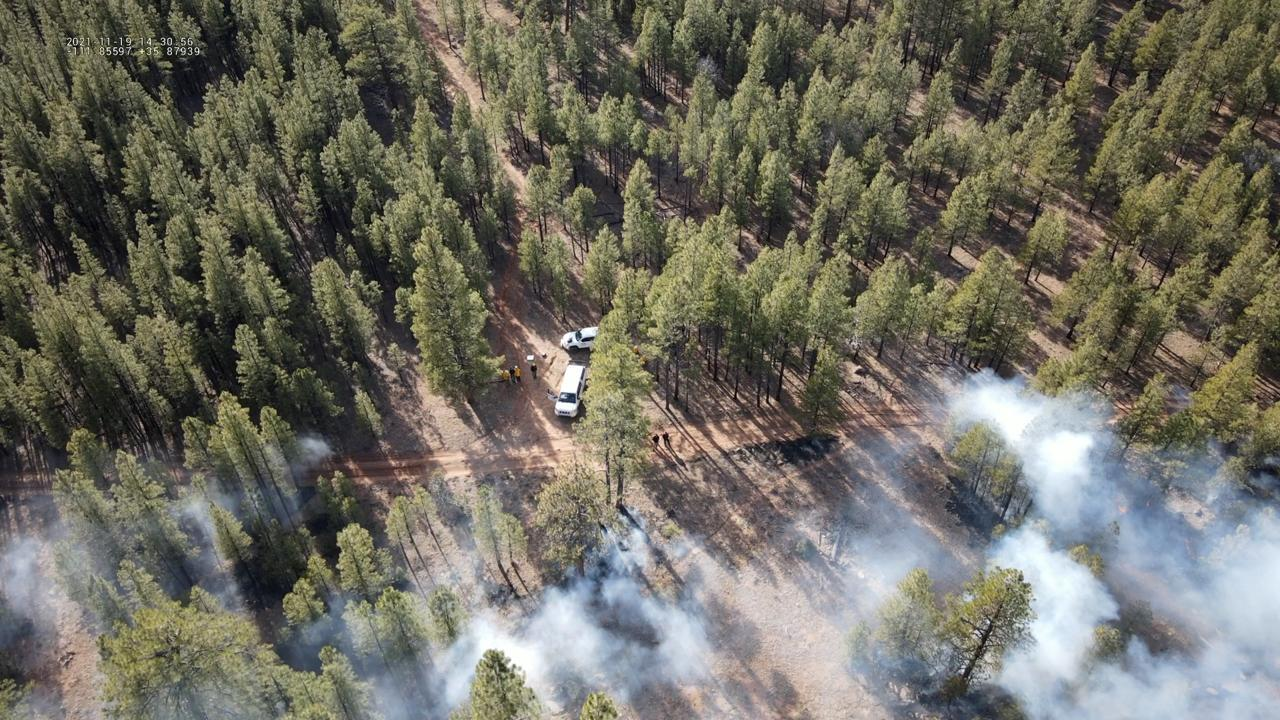fire: (1116, 503, 1131, 515)
smoke: (0, 433, 723, 720), (788, 366, 1280, 720)
